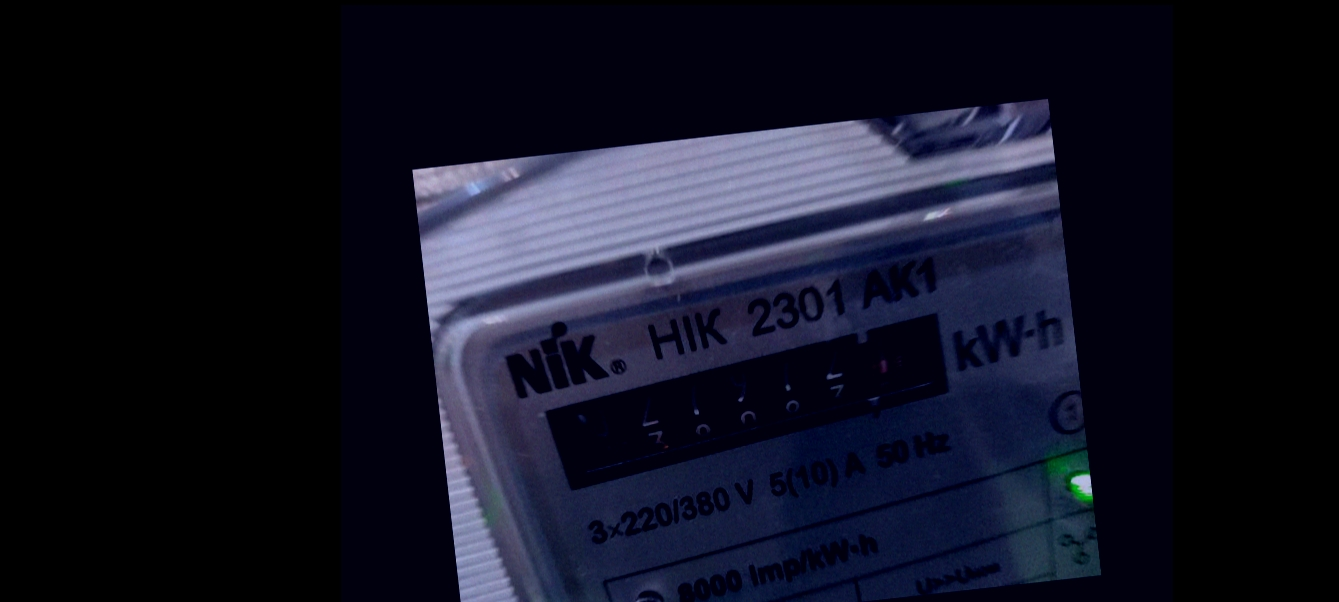0: (583, 403, 615, 441)
1: (870, 334, 897, 379)
2: (631, 388, 664, 430), (817, 343, 849, 383)
7: (771, 354, 801, 397), (680, 380, 707, 420)
9: (726, 368, 756, 405)
screen: (522, 301, 989, 504)
